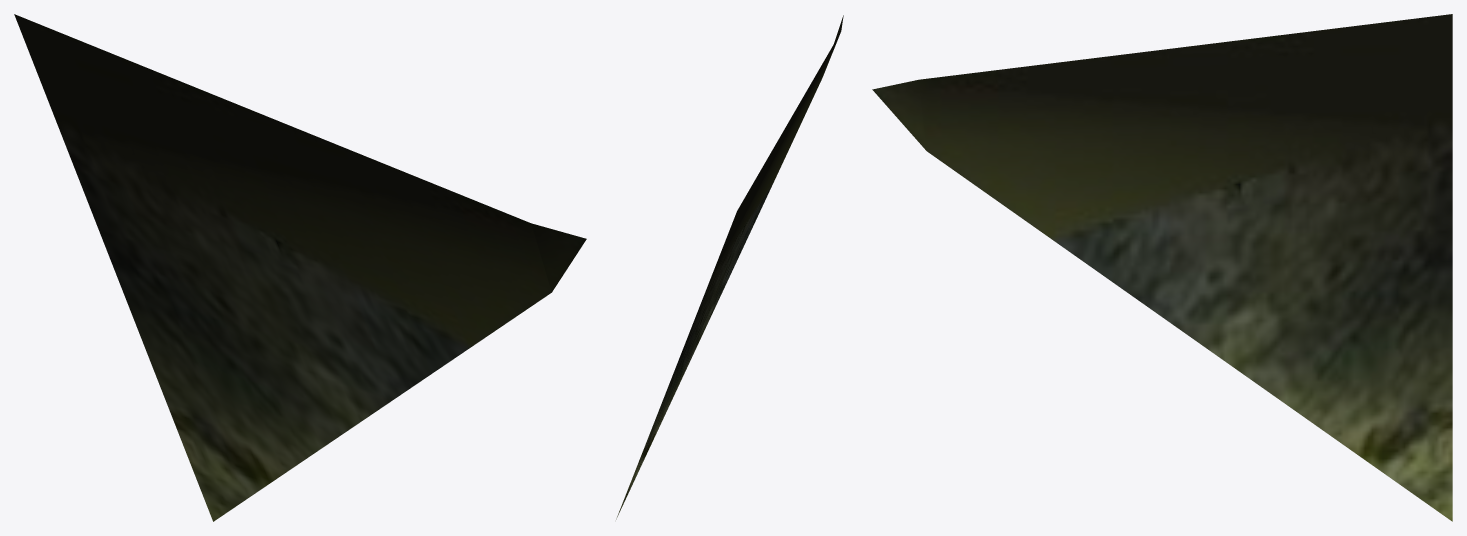
The picture shows the model from 3 angles, left to right: view 1: azimuth 30°, elevation 25°; view 2: azimuth 150°, elevation 25°; view 3: azimuth 270°, elevation 25°; orthographic projection. The views are drawn at different scales.
Bounding box in the file's own units: 0.5442 × 1.45 × 1.77.
Materials: 1 (1 with a texture image).
